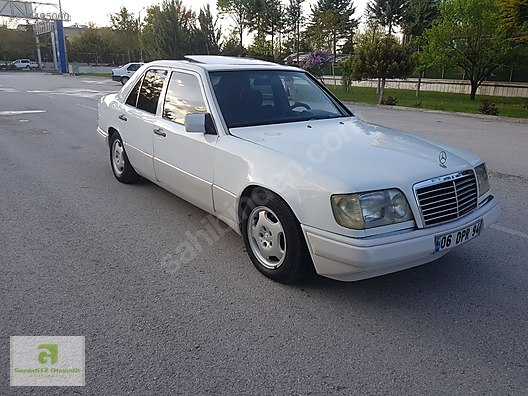mercedes: (91, 61, 498, 286)
